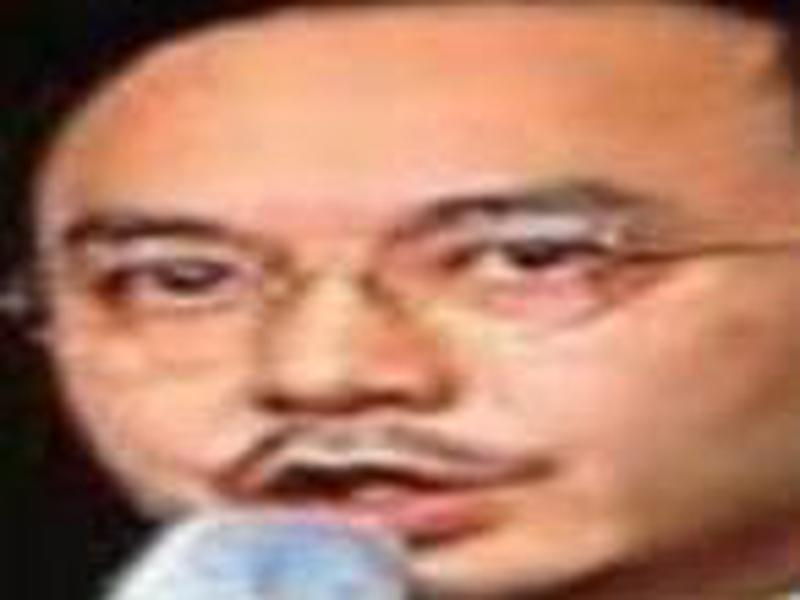without_mask: (42, 23, 780, 587)
